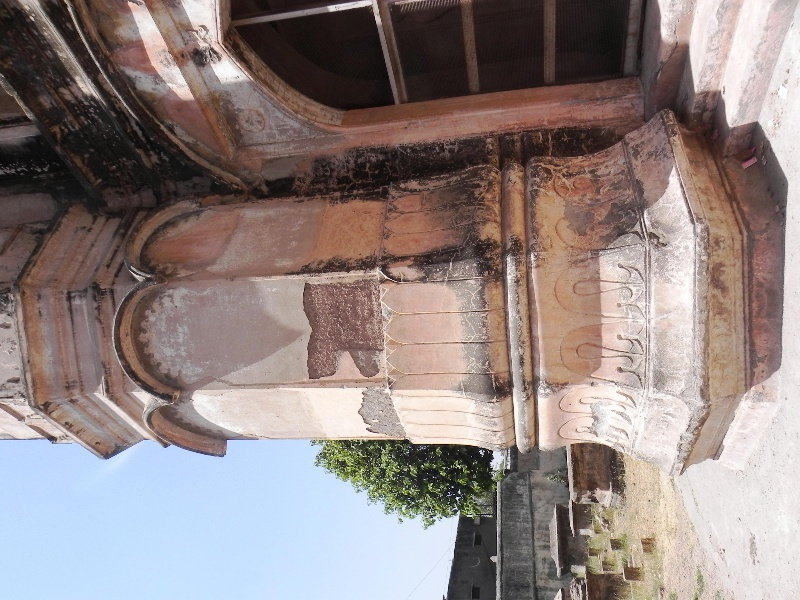Spalling: (296, 273, 388, 378), (355, 381, 410, 437)
